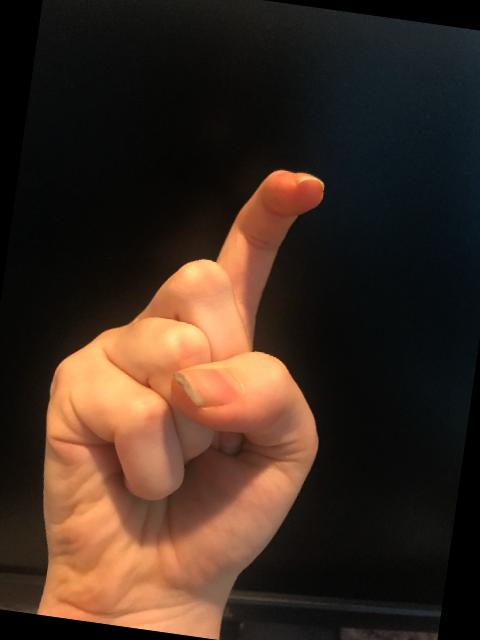X: (14, 137, 361, 634)
